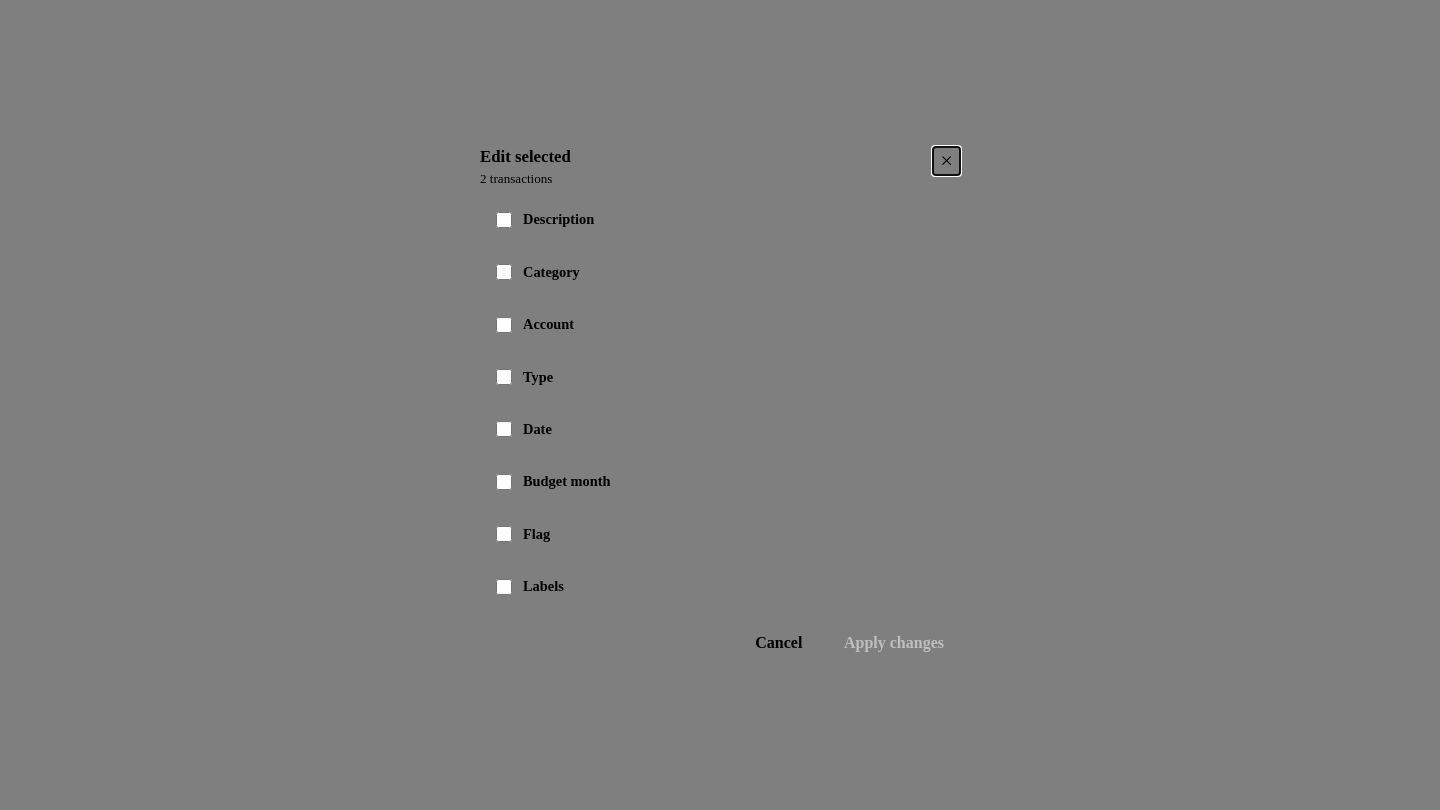
BulkEditSheet › shows type selector when Type is toggled
Click the checkbox labelled "Type" at (504,377), box 496,369 -> 512,385
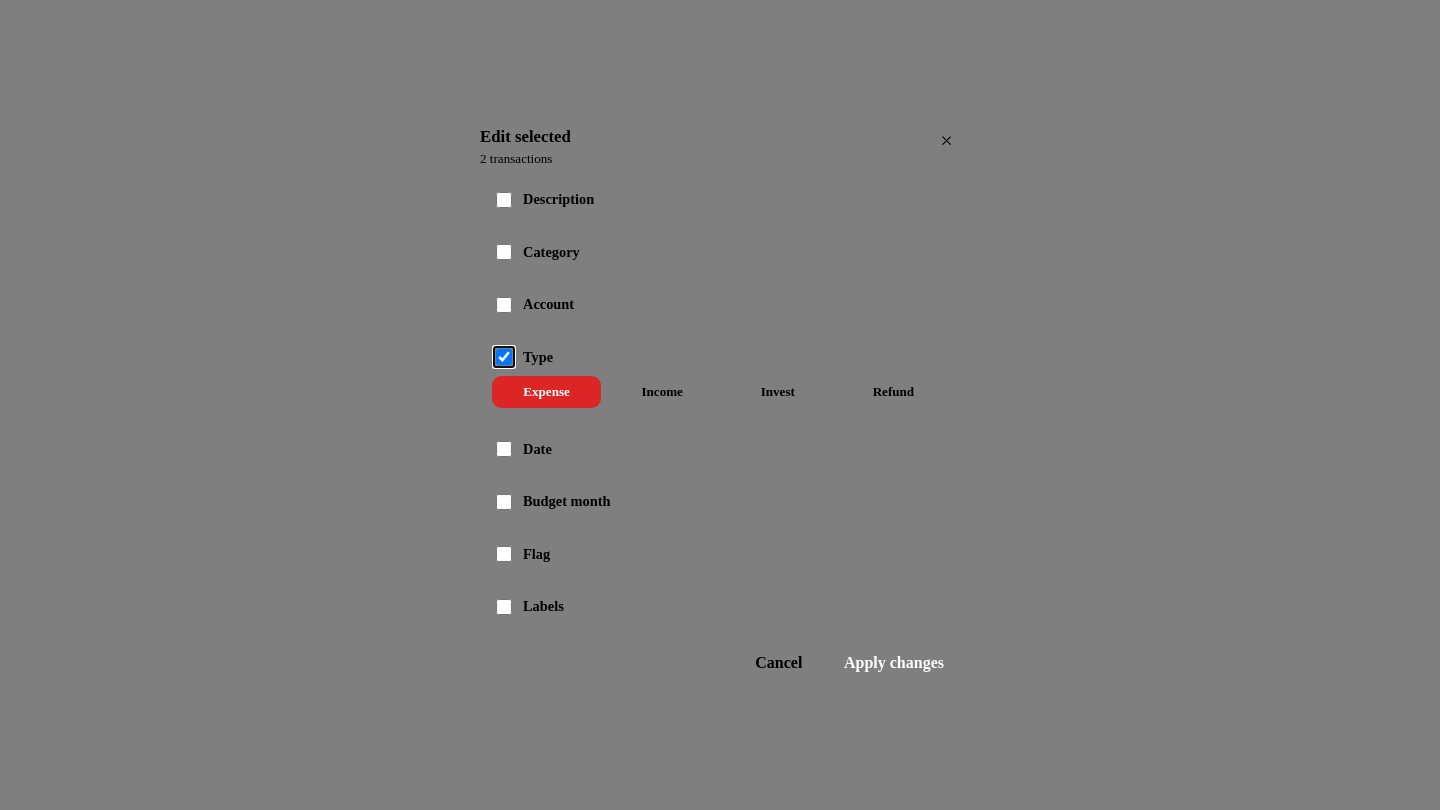
Check: the button "Expense" is shown, box 492,376 -> 601,408
Check: the button "Income" is shown, box 608,376 -> 717,408
